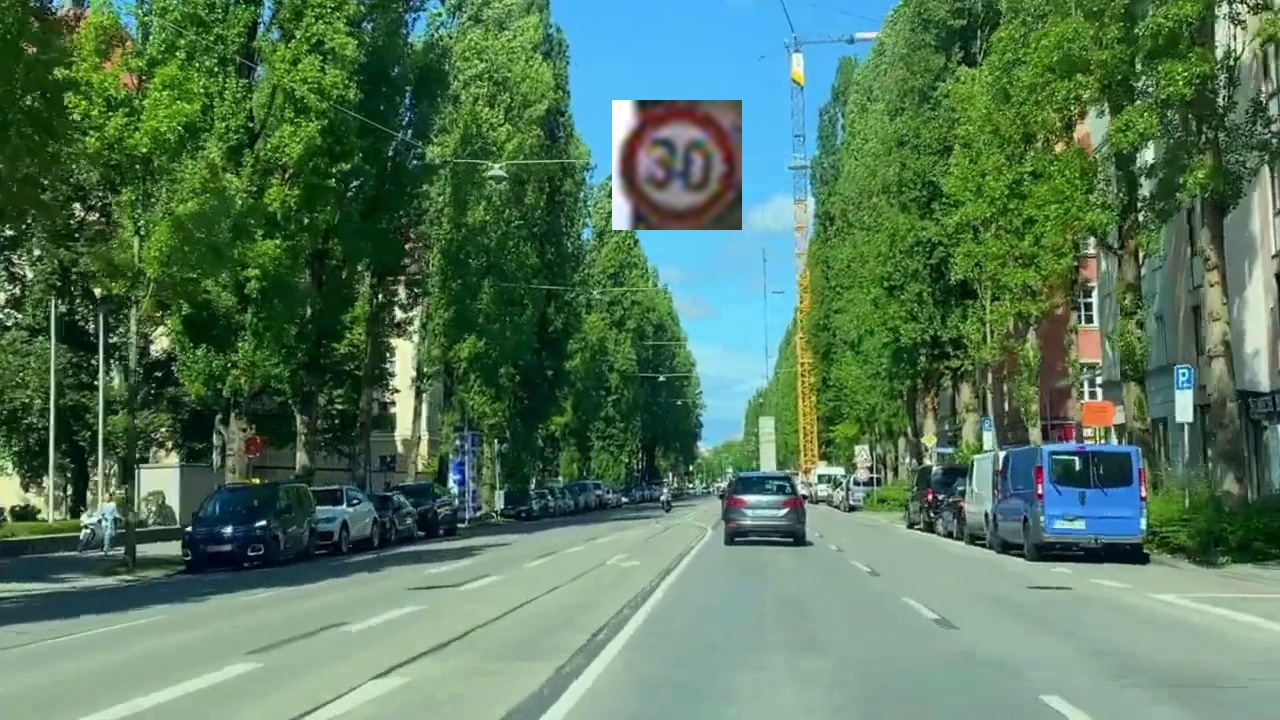Speed 30: (612, 100, 742, 230)
